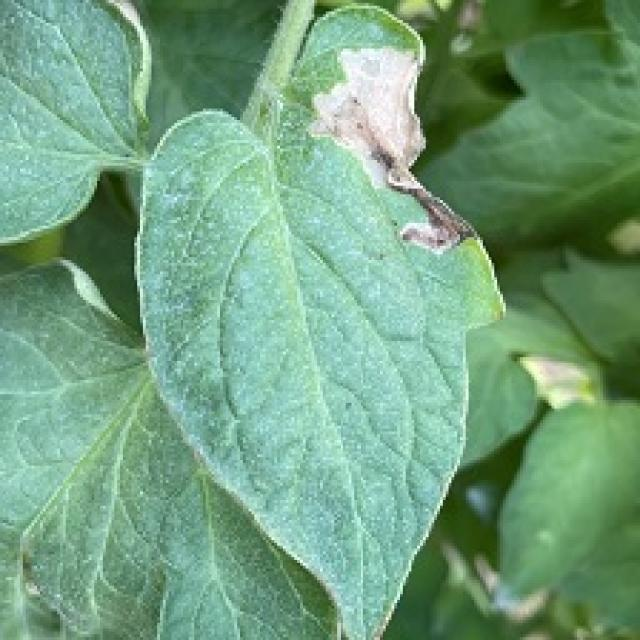Tuta absoluta: (284, 16, 528, 270)
